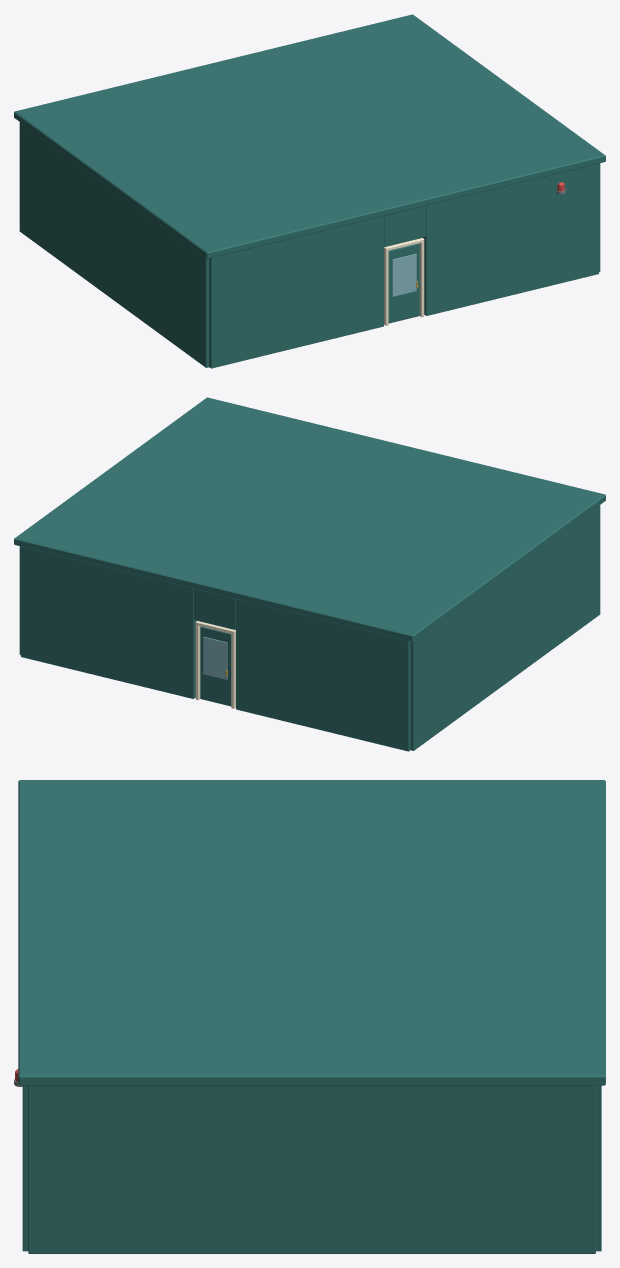
Rendered from Interior_Hideout.fbx.
The picture shows the model from 3 angles, top to bottom: view 1: azimuth 30°, elevation 25°; view 2: azimuth 150°, elevation 25°; view 3: azimuth 270°, elevation 25°; orthographic projection. The views are drawn at different scales.
Visible parts, largest first — view 1: Roof_Removable.003, WallLeft.003, WallSegment.012, WallSegment.013, Entrance_Door.004, DoorHeader.006, Entrance_Glass.004; view 2: Roof_Removable.003, WallLeft.003, WallSegment.014, WallSegment.015, RearExit_Door.004, DoorHeader.007, RearExit_Glass.004; view 3: Roof_Removable.003, WallRight.003, WallSegment.013, WallSegment.015.
Part boxes in pixels (<box>): Roof_Removable.003: <box>14,14,605,258</box>; WallLeft.003: <box>19,122,209,367</box>; WallSegment.012: <box>209,216,383,368</box>; WallSegment.013: <box>423,163,598,315</box>; Entrance_Door.004: <box>388,243,419,323</box>; DoorHeader.006: <box>384,205,425,246</box>; Entrance_Glass.004: <box>392,253,416,296</box>; Roof_Removable.003: <box>14,397,605,641</box>; WallLeft.003: <box>410,505,600,750</box>; WallSegment.014: <box>236,599,410,751</box>; WallSegment.015: <box>21,546,196,698</box>; RearExit_Door.004: <box>200,626,231,706</box>; DoorHeader.007: <box>194,588,235,629</box>; RearExit_Glass.004: <box>203,636,227,679</box>; Roof_Removable.003: <box>18,780,605,1085</box>; WallRight.003: <box>28,1085,595,1253</box>; WallSegment.013: <box>22,1085,28,1251</box>; WallSegment.015: <box>596,1085,601,1251</box>.
Size of the model in its own units: 12.35 by 3.51 by 10.43.
